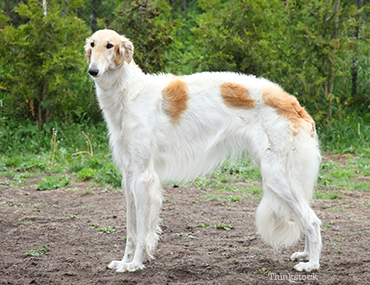borzoi: (75, 28, 333, 277)
